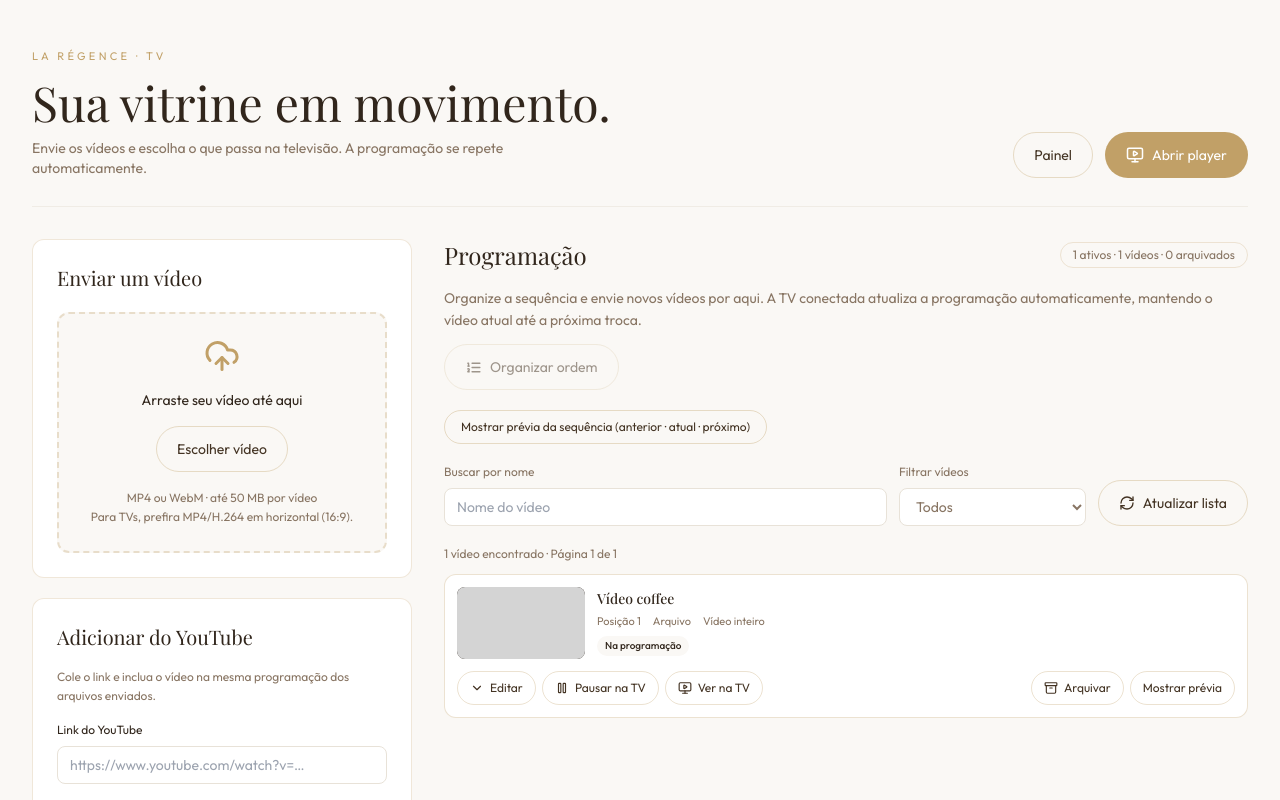
Test: shows a lightweight poster and keeps editing fields collapsed until requested
Click the button "Editar".
click(496, 688)  # box [457,671,536,705]
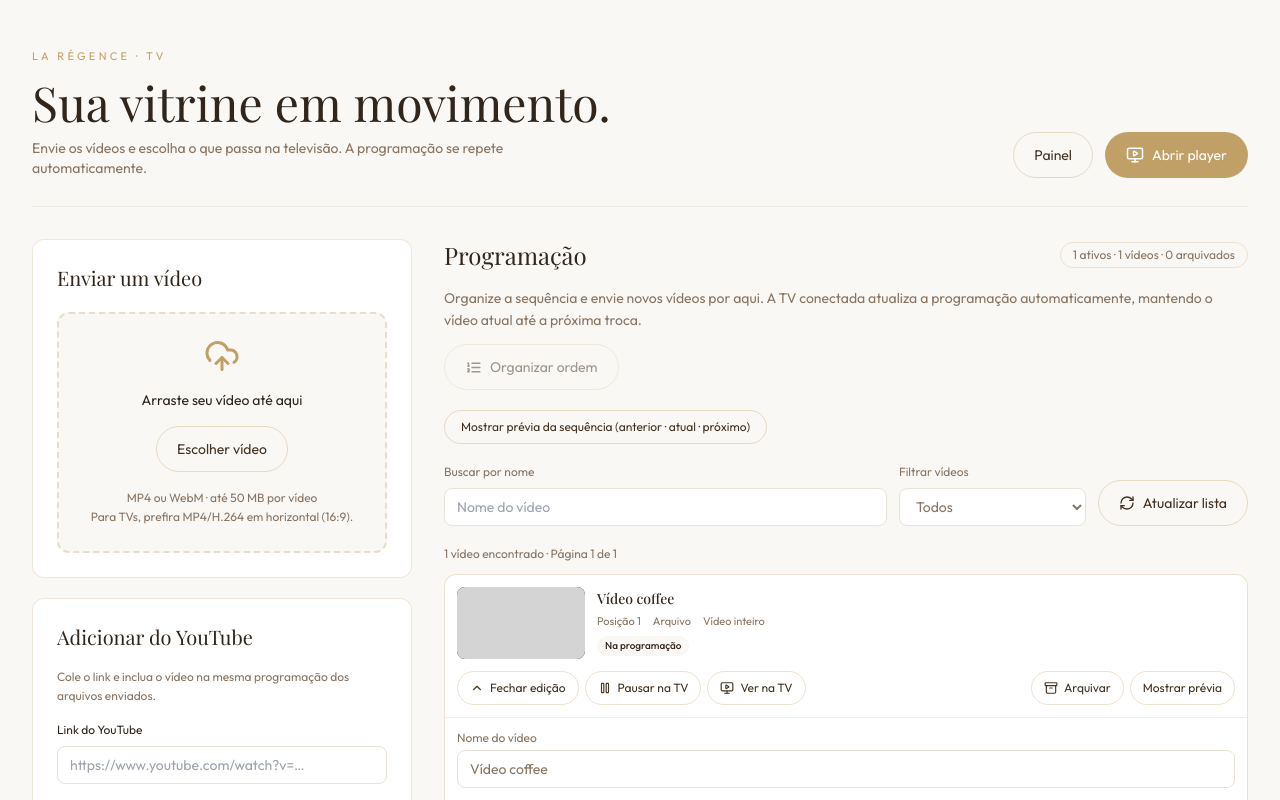
Check: the field labelled "Nome do vídeo" holds "Vídeo coffee"
Replace the text in the field labelled "Nome do vídeo" with "Rascunho" at (846, 769), box [457,750,1235,788]
(page scrolled)
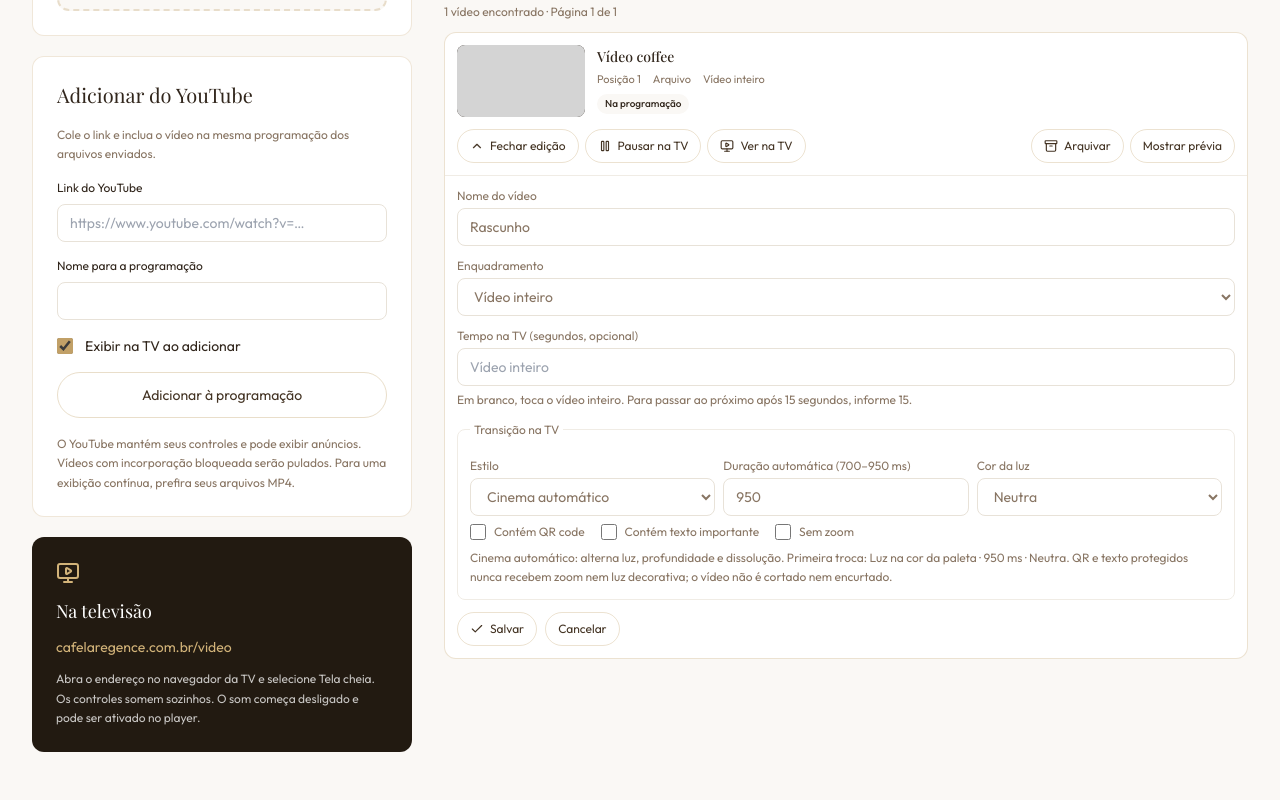
Click the button "Cancelar".
click(582, 629)  # box [545,612,620,646]
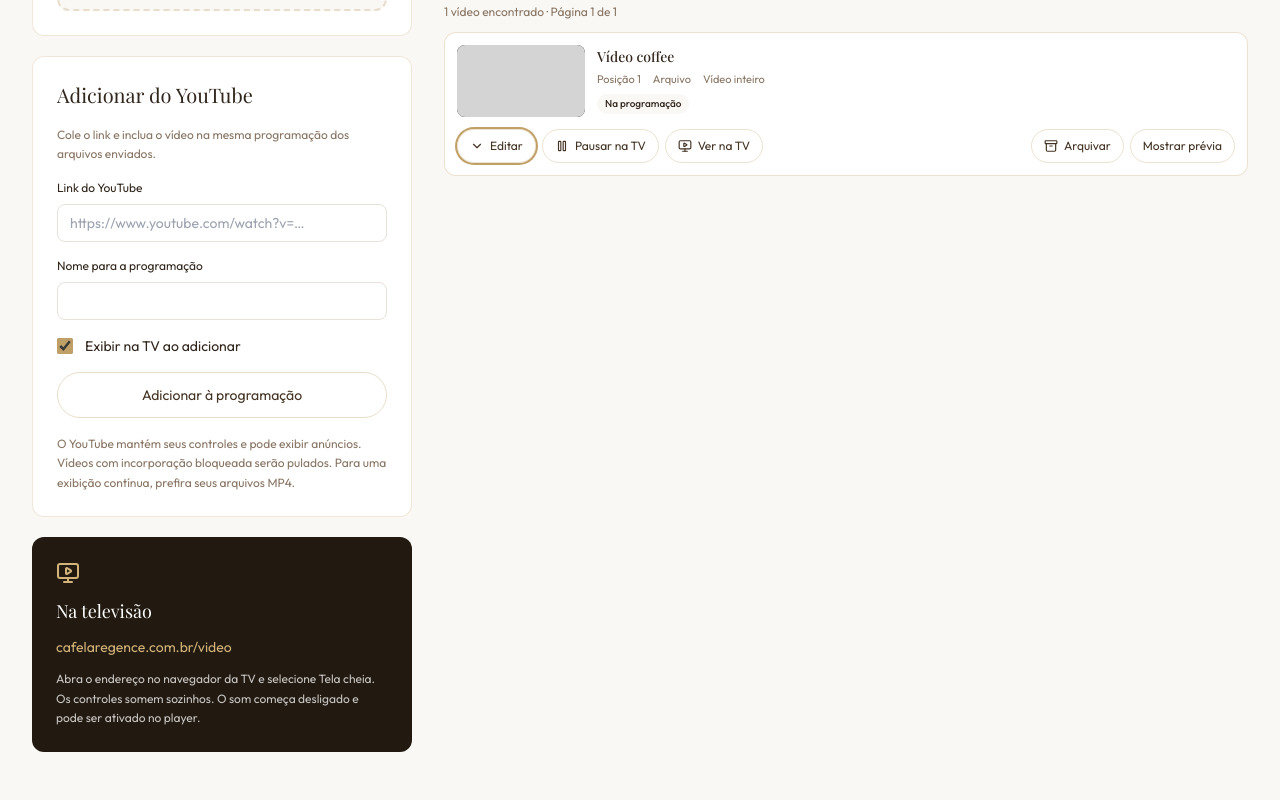
Check: the text labelled "Nome do vídeo" is gone
Click the button "Editar".
click(496, 146)  # box [457,129,536,163]
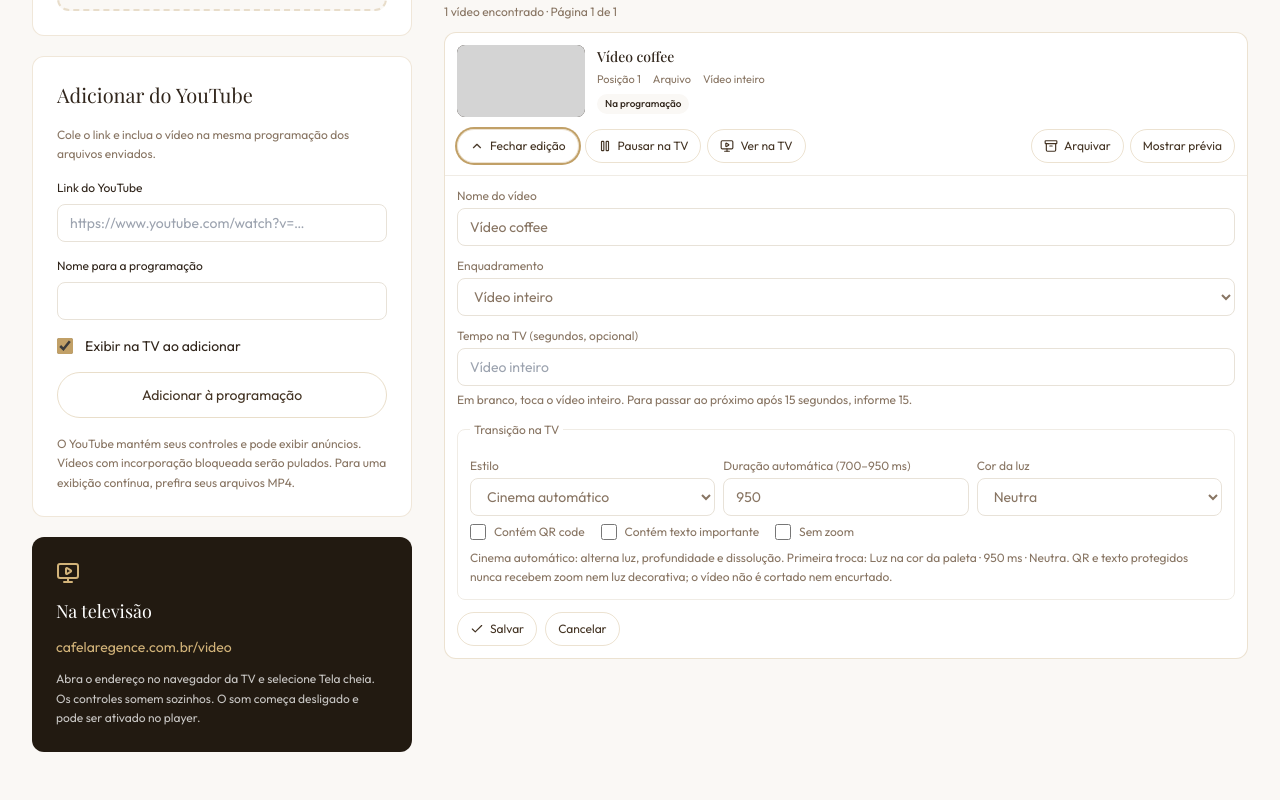
Check: the field labelled "Nome do vídeo" holds "Vídeo coffee", box [457,208,1235,246]
